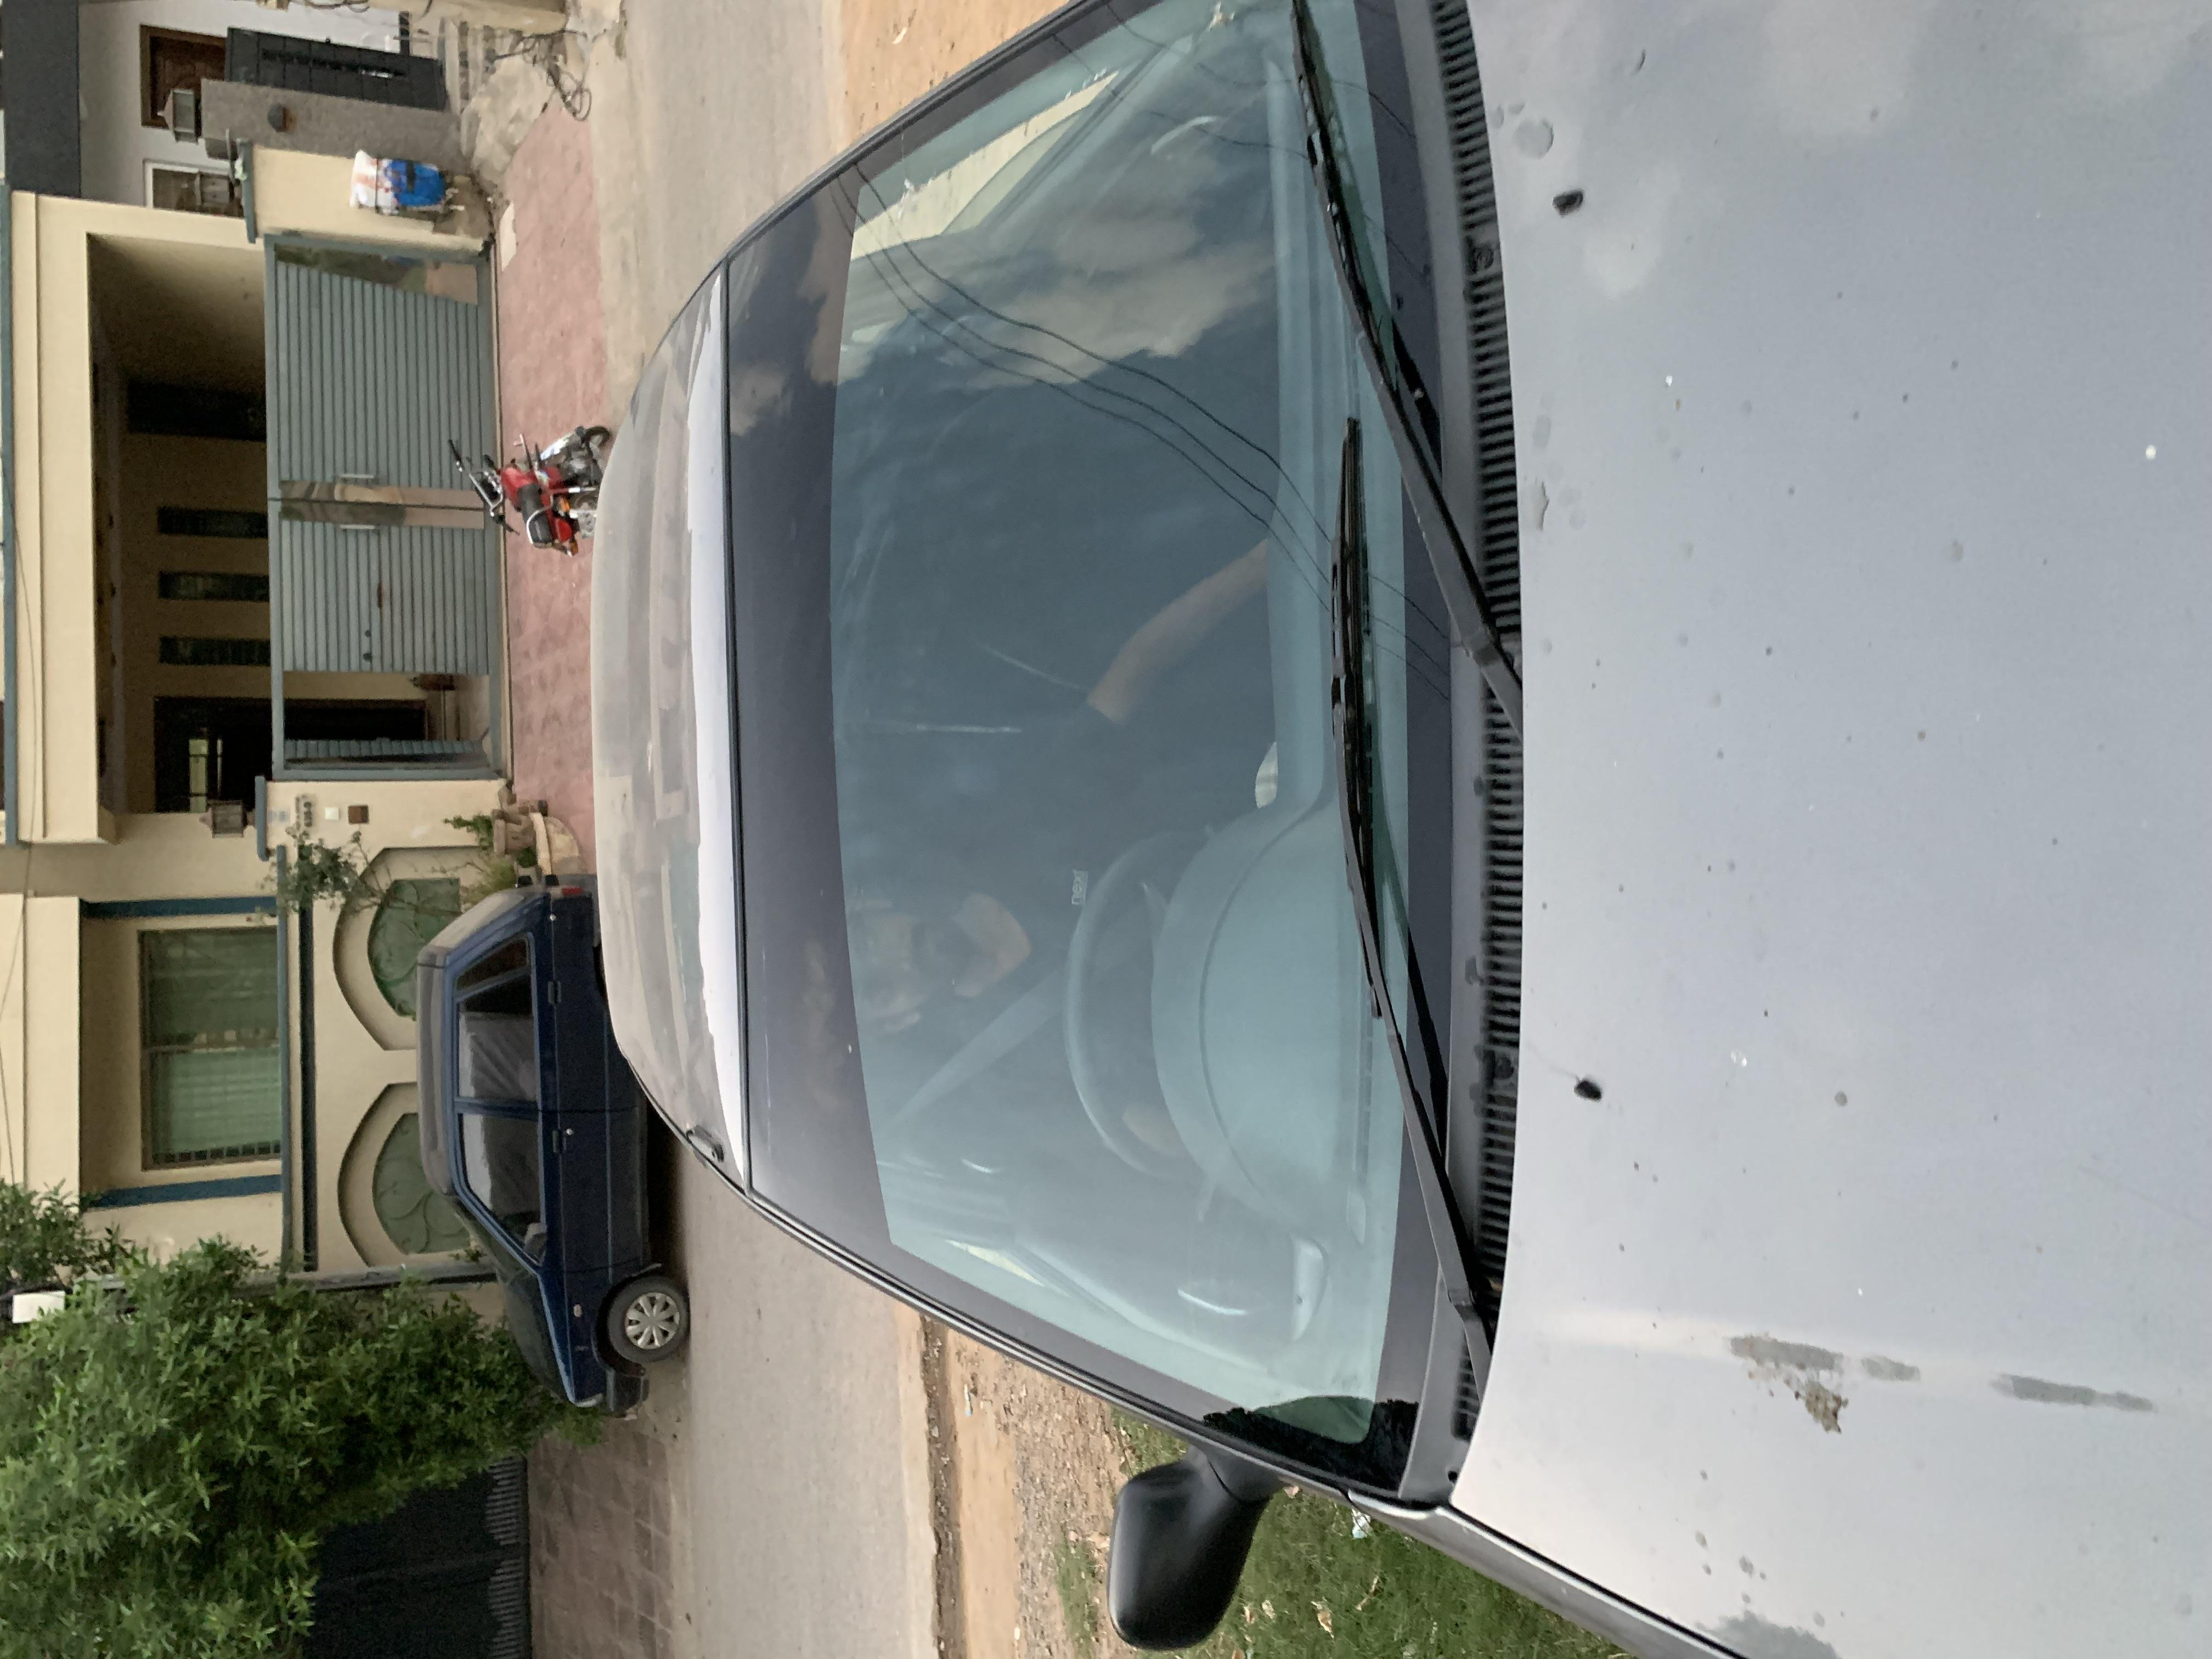windshield: (178, 523, 2195, 1107)
